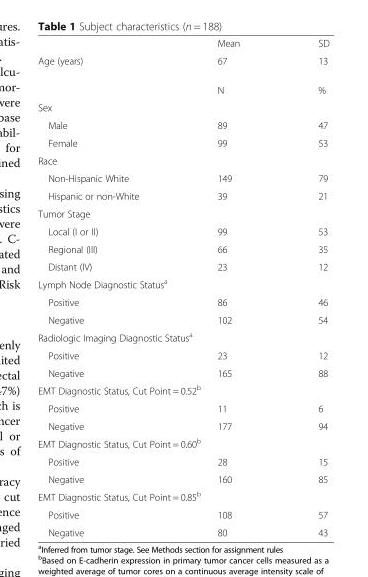table: (37, 37, 328, 537)
table column: (37, 37, 177, 537), (177, 37, 278, 537), (278, 37, 328, 537)
table column header: (37, 37, 328, 51)
table projected row header: (37, 274, 328, 293), (37, 327, 328, 346), (37, 380, 328, 399), (37, 433, 328, 452), (37, 98, 328, 116), (37, 151, 328, 169), (37, 204, 328, 222), (37, 487, 328, 505)
table row: (37, 74, 328, 98), (37, 51, 328, 74), (37, 274, 328, 293), (37, 327, 328, 346), (37, 380, 328, 399), (37, 433, 328, 452), (37, 98, 328, 116), (37, 133, 328, 151), (37, 151, 328, 169), (37, 186, 328, 204), (37, 204, 328, 222), (37, 239, 328, 257), (37, 399, 328, 417), (37, 452, 328, 470), (37, 487, 328, 505), (37, 505, 328, 523), (37, 116, 328, 133), (37, 169, 328, 186), (37, 222, 328, 239), (37, 257, 328, 274), (37, 293, 328, 310), (37, 310, 328, 327), (37, 346, 328, 363), (37, 363, 328, 380), (37, 470, 328, 487), (37, 417, 328, 433), (37, 37, 328, 51), (37, 523, 328, 537)
table spanning cell: (37, 51, 177, 98)
